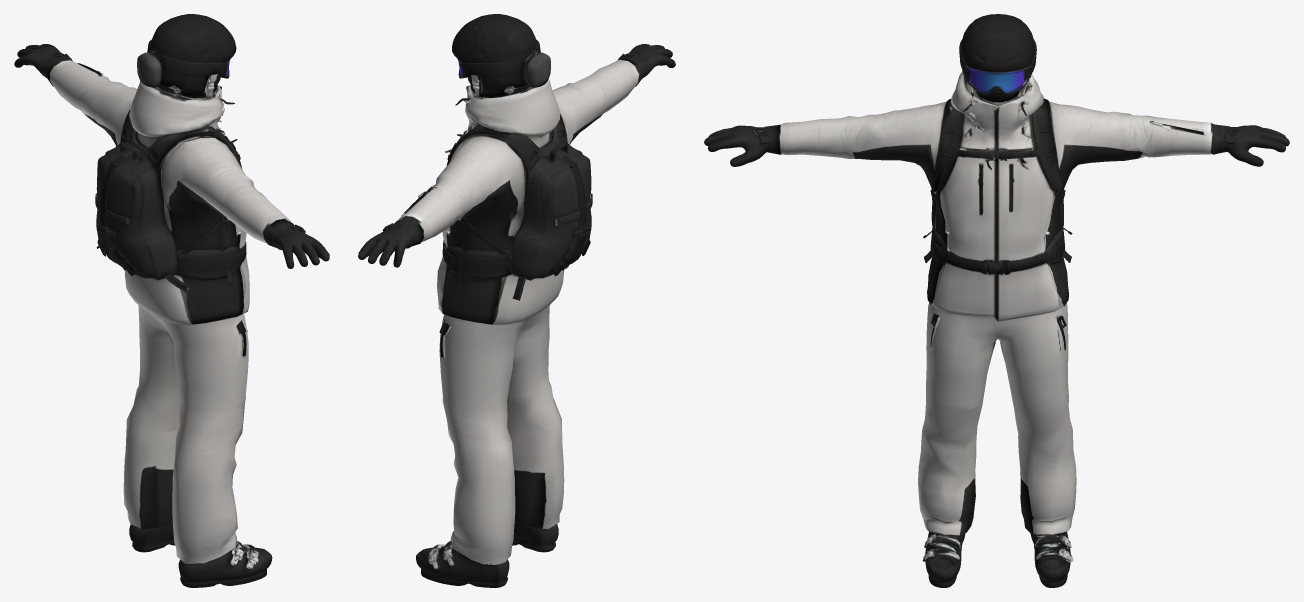
File: tripo_convert_b9e52482-e0ee-4963-886c-66c8391ff3d1.glb
The picture shows the model from 3 angles, left to right: view 1: azimuth 30°, elevation 25°; view 2: azimuth 150°, elevation 25°; view 3: azimuth 270°, elevation 25°; orthographic projection.
Visible parts, largest first — view 1: tripo_node_b9e52482-e0ee-4963-886c-66c8391ff3d1; view 2: tripo_node_b9e52482-e0ee-4963-886c-66c8391ff3d1; view 3: tripo_node_b9e52482-e0ee-4963-886c-66c8391ff3d1.
Part boxes in pixels (<box>): tripo_node_b9e52482-e0ee-4963-886c-66c8391ff3d1: <box>14,14,329,587</box>; tripo_node_b9e52482-e0ee-4963-886c-66c8391ff3d1: <box>358,14,675,587</box>; tripo_node_b9e52482-e0ee-4963-886c-66c8391ff3d1: <box>704,14,1289,587</box>.
Size of the model in its own units: 0.272 by 0.9995 by 0.9712.
1 material, 1 textured.
